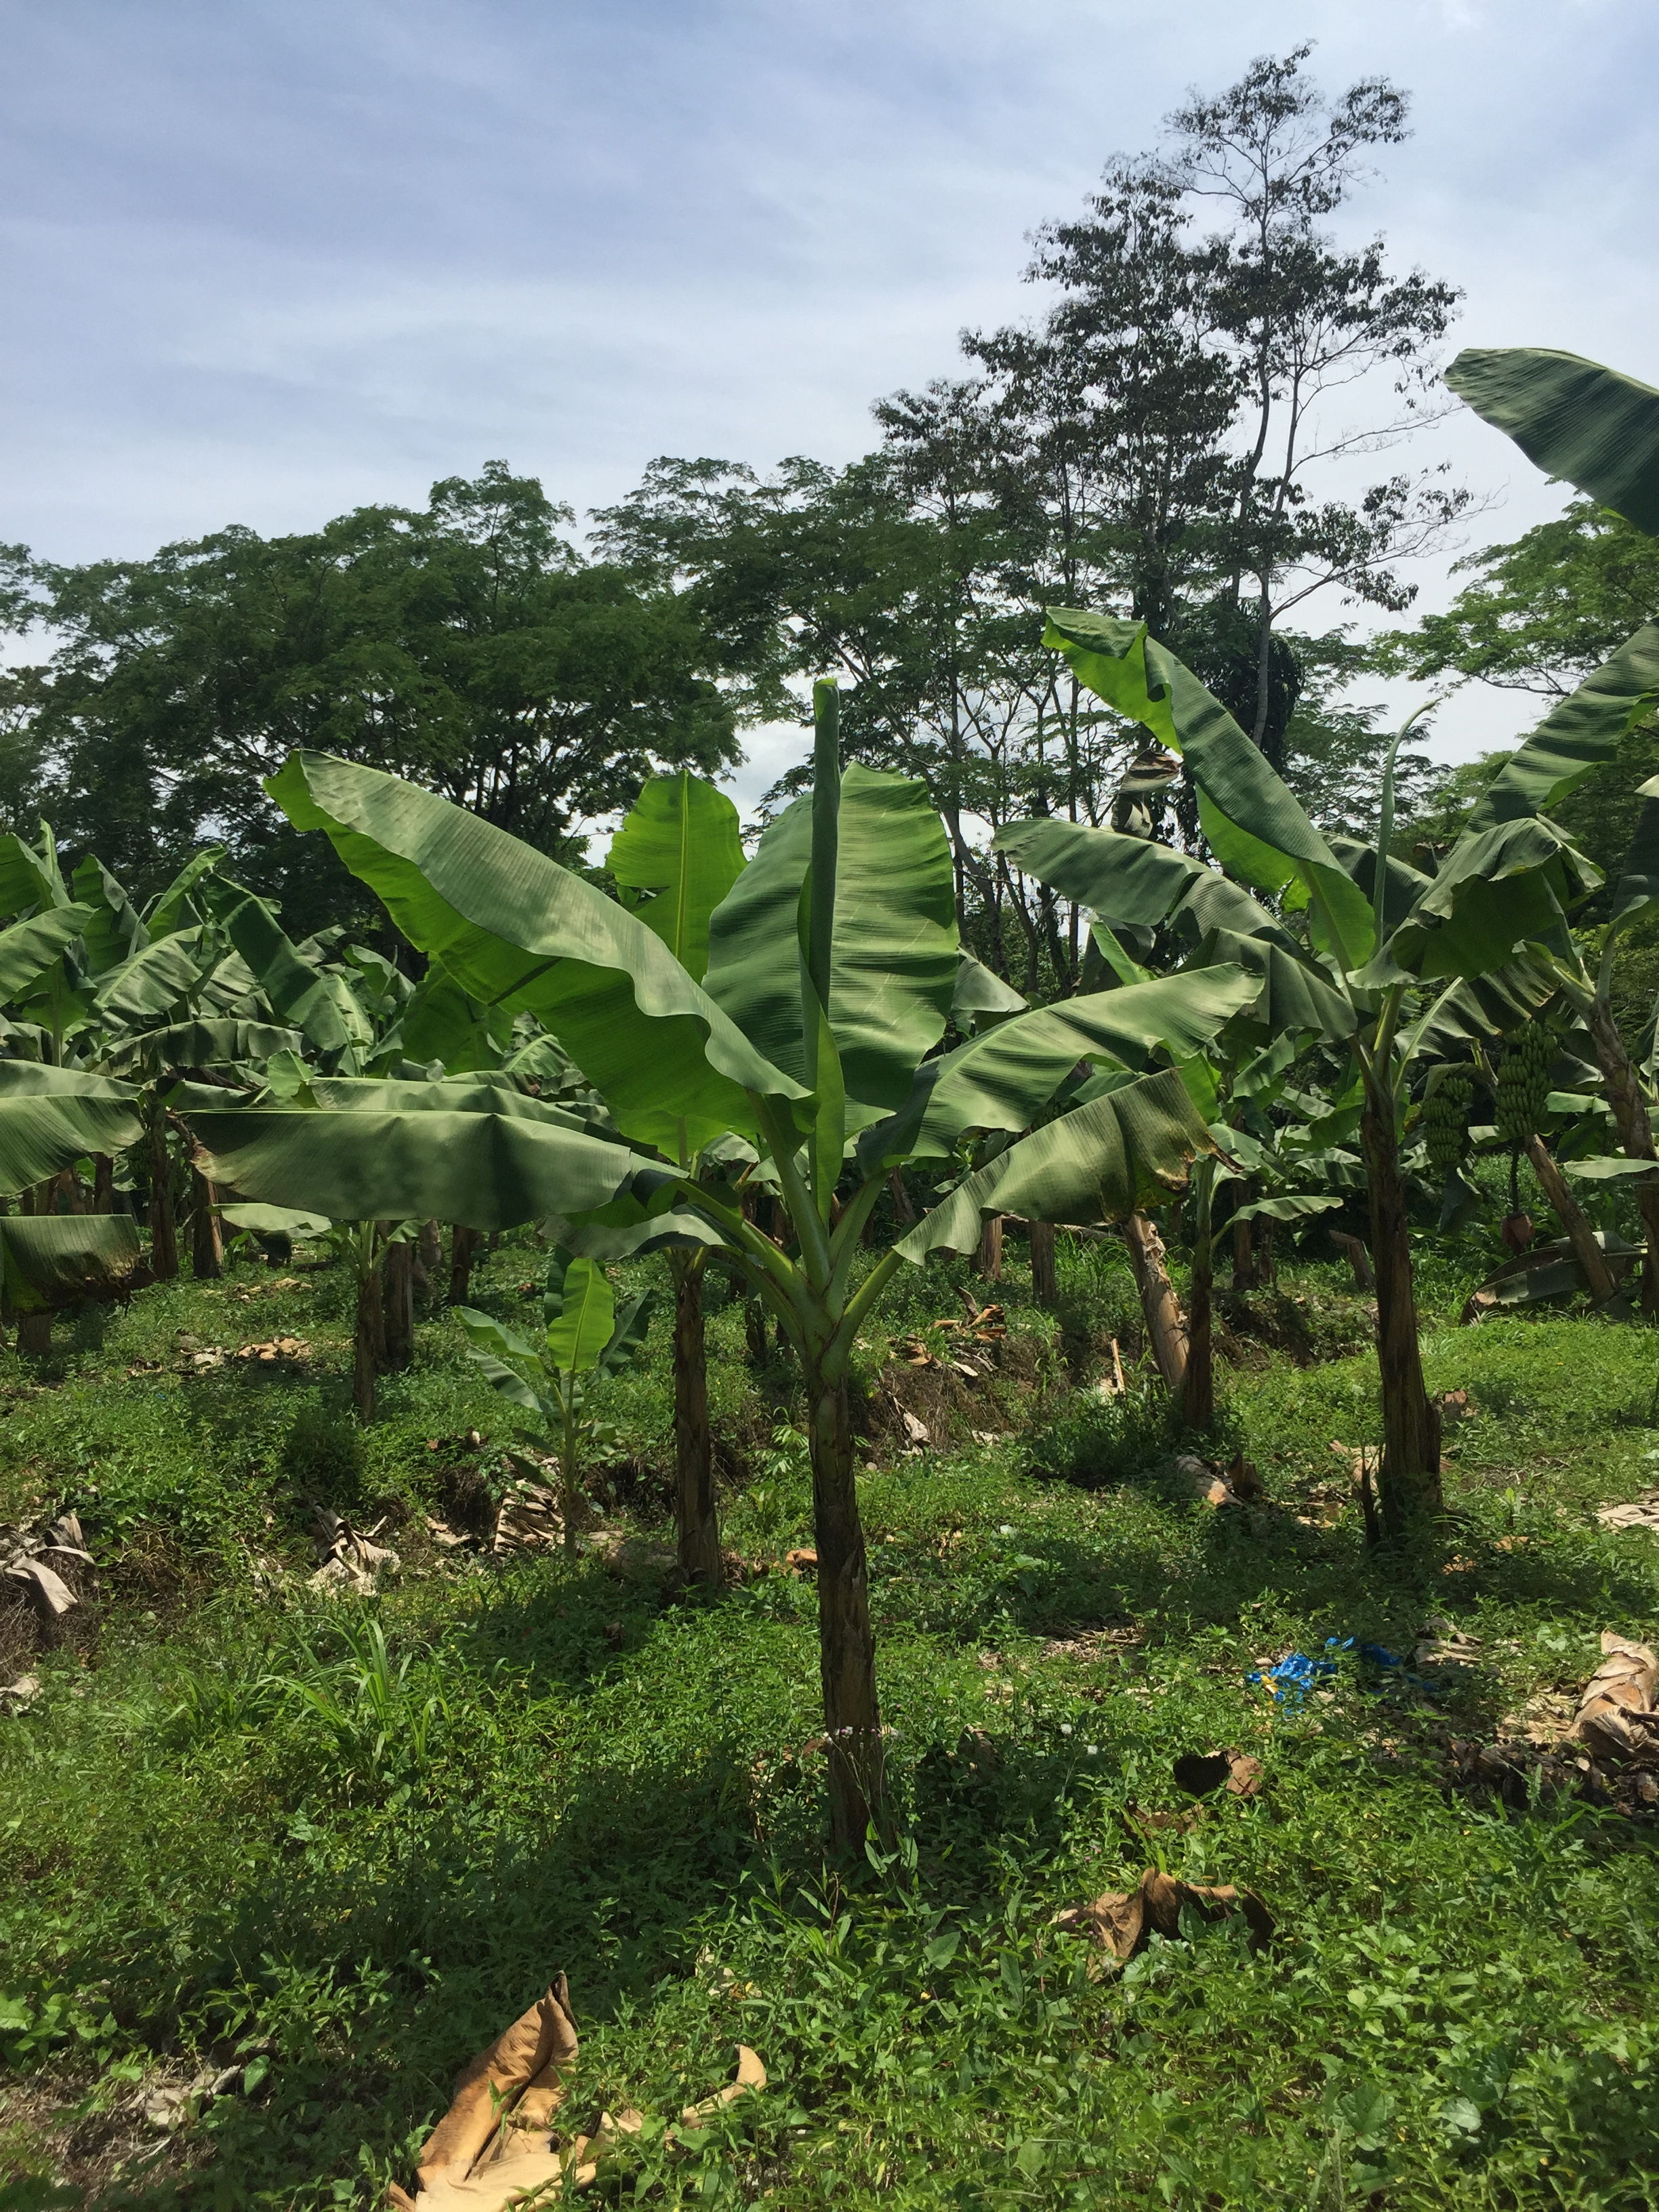candleleafs: (796, 676, 845, 1219), (1373, 697, 1446, 956)
